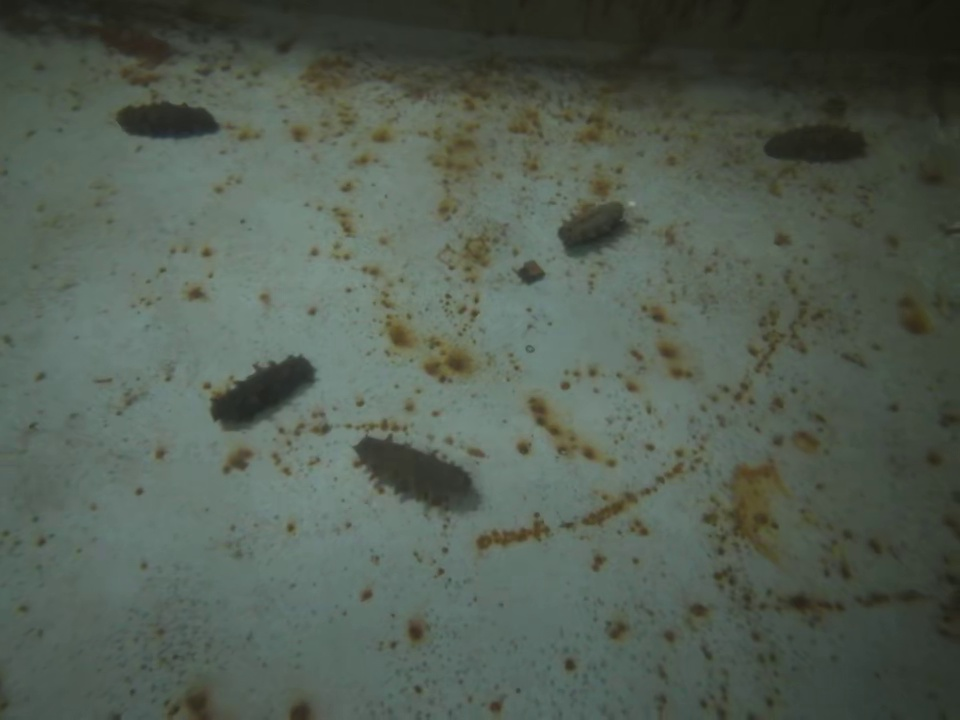seacucumber: (348, 429, 478, 509), (204, 351, 320, 426), (112, 101, 223, 146), (763, 121, 869, 166), (558, 196, 633, 248)
